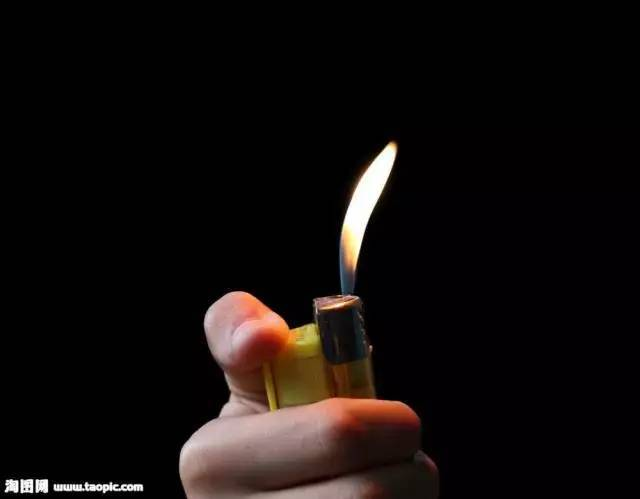Fire: (337, 132, 399, 299)
